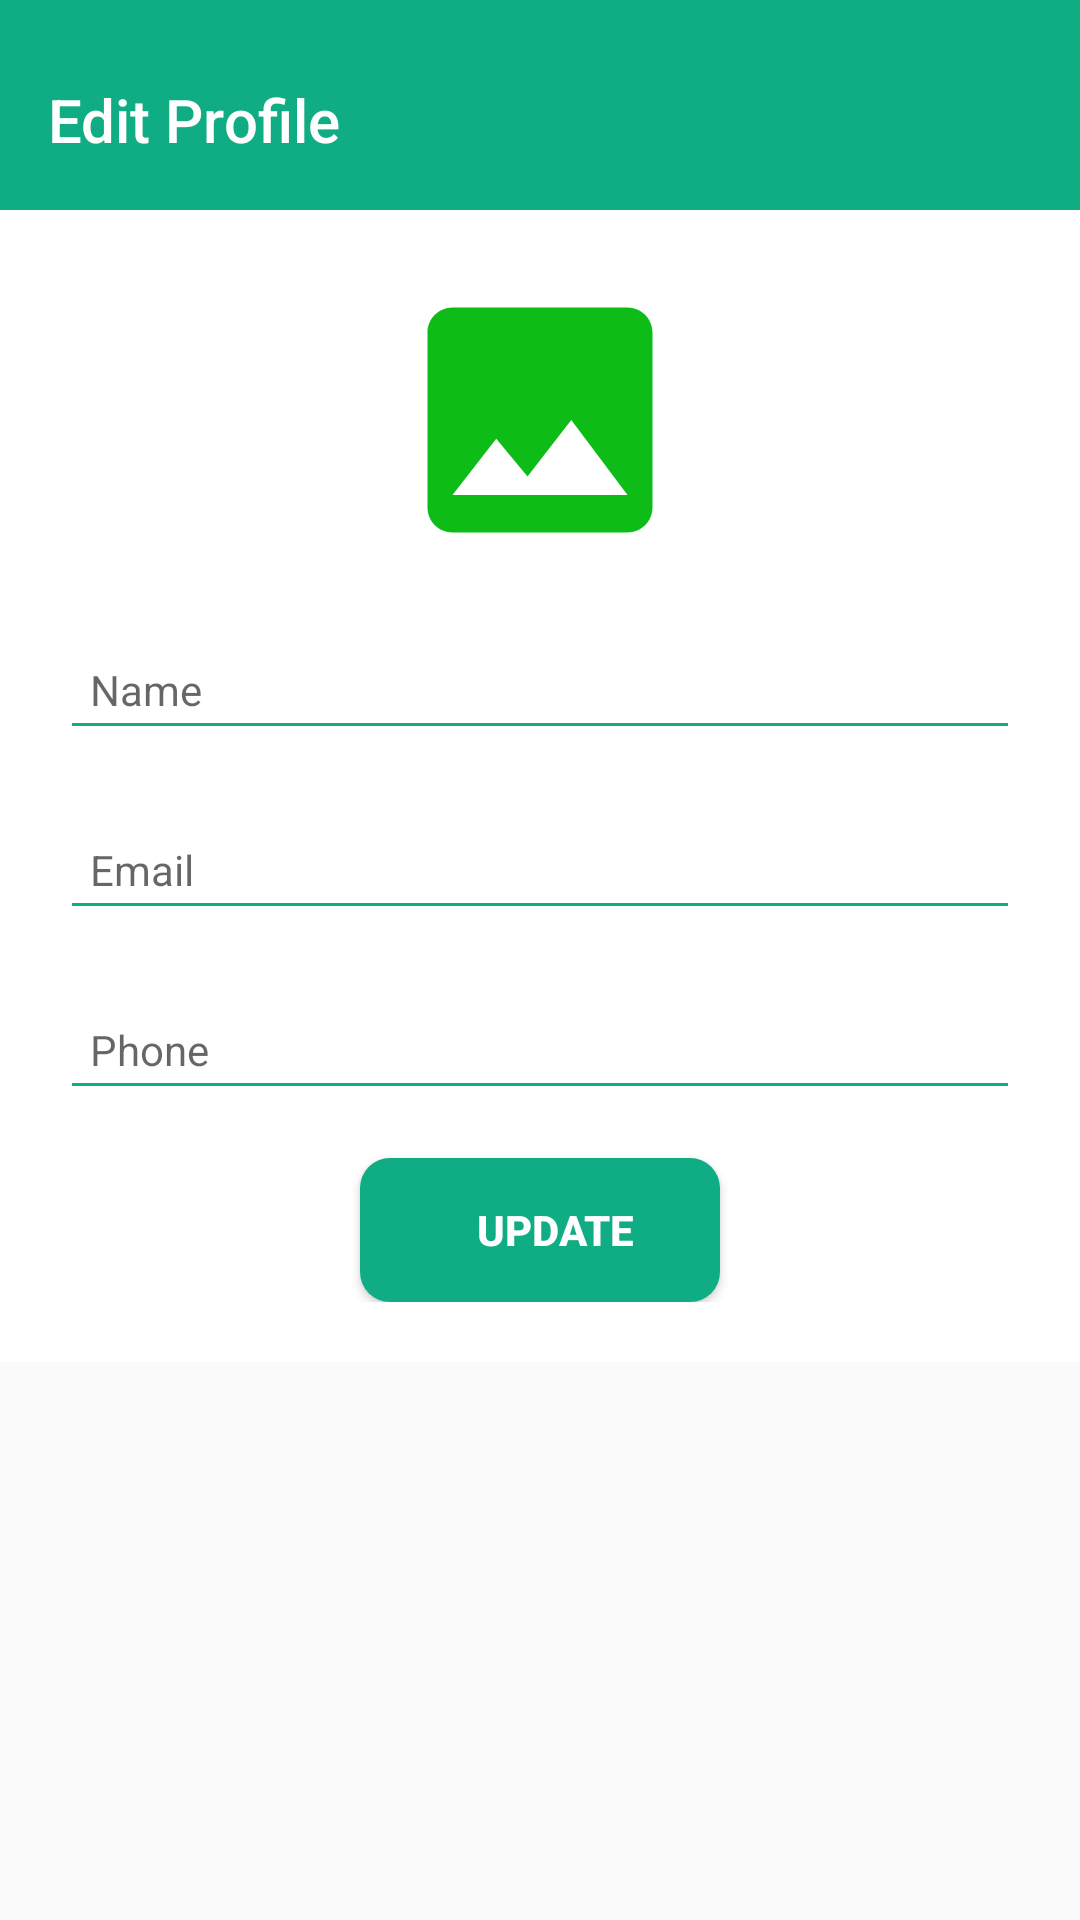

Icons on this 1080 × 1920 Android screen, each with its box as {"x1": x1, "y1": y1, "x2": x2, "y2": y2}:
choose: {"x1": 427, "y1": 307, "x2": 653, "y2": 533}
